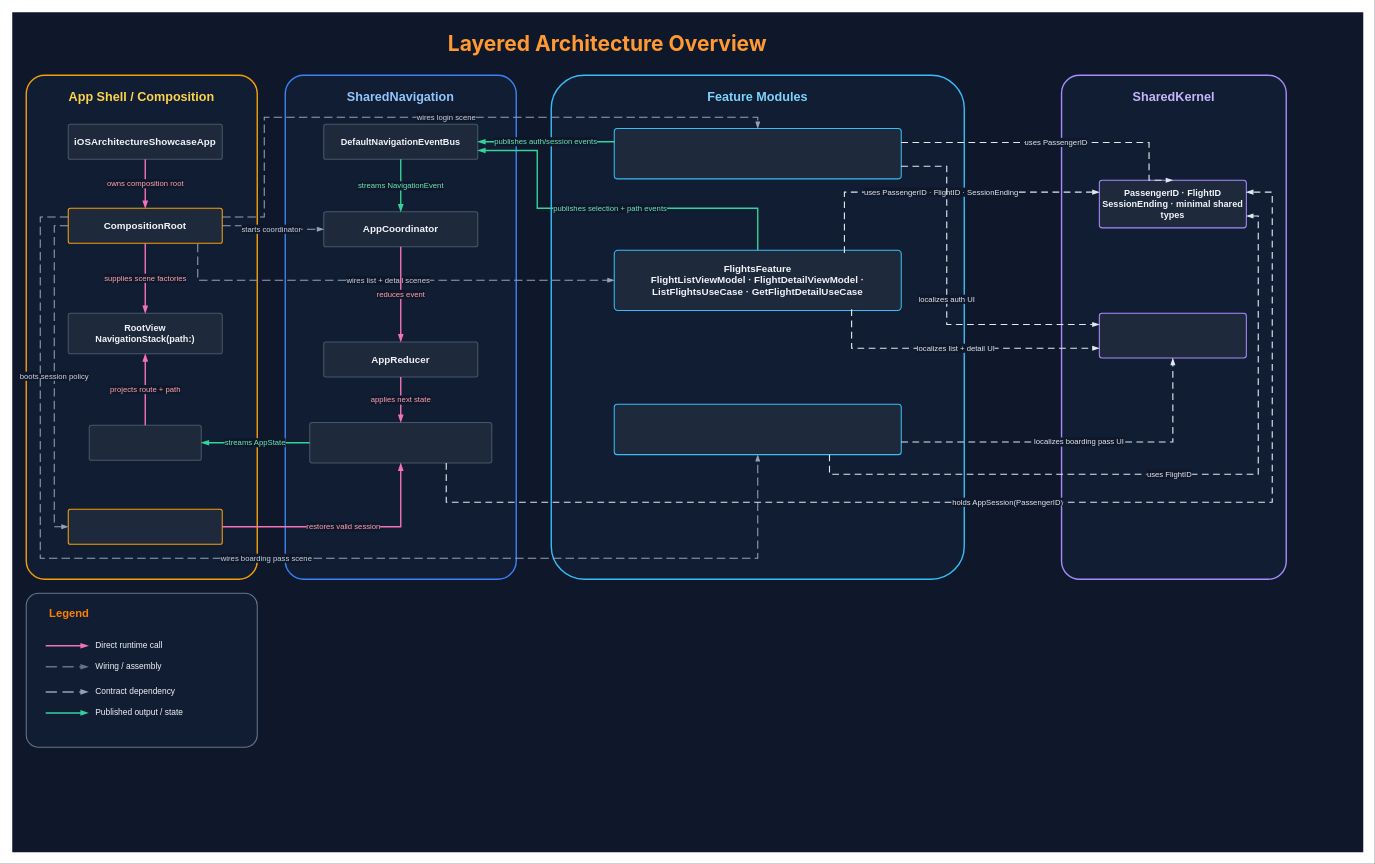
Image size: 1375x864. Some labels were removed from this diagram. Here are the shapes that lost their labels. From the top down, the centre of each, then its label:
pixel 757 153: AuthFeature LoginView · AuthViewModel · LoginUseCase
pixel 1173 335: AppStrings String Catalog / localization
pixel 144 442: AppViewModel
pixel 400 442: AppStateStore AppState = RootRoute + AppSession + Path
pixel 757 429: BoardingPassFeature BoardingPassViewModel · GetBoardingPassUseCase
pixel 144 526: SessionBootstrapper
